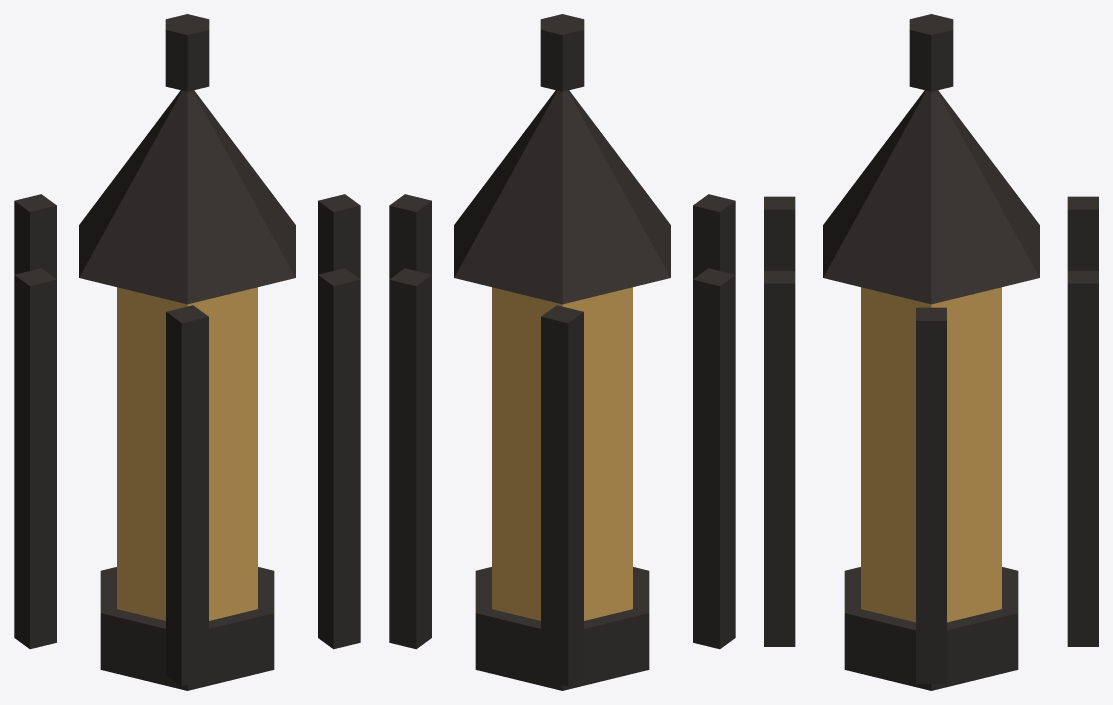
Rendered from lantern.glb.
3 views of the same model, side by side, from view 1: azimuth 30°, elevation 25°; view 2: azimuth 150°, elevation 25°; view 3: azimuth 270°, elevation 25° (orthographic).
Visible parts, largest first — view 1: props/lantern; view 2: props/lantern; view 3: props/lantern.
Boxes of the visible parts, x1=… form: props/lantern: x1=14, y1=14, x2=360, y2=690; props/lantern: x1=389, y1=14, x2=735, y2=690; props/lantern: x1=764, y1=14, x2=1098, y2=690.
Size of the model in its own units: 0.305 by 0.55 by 0.2675.
